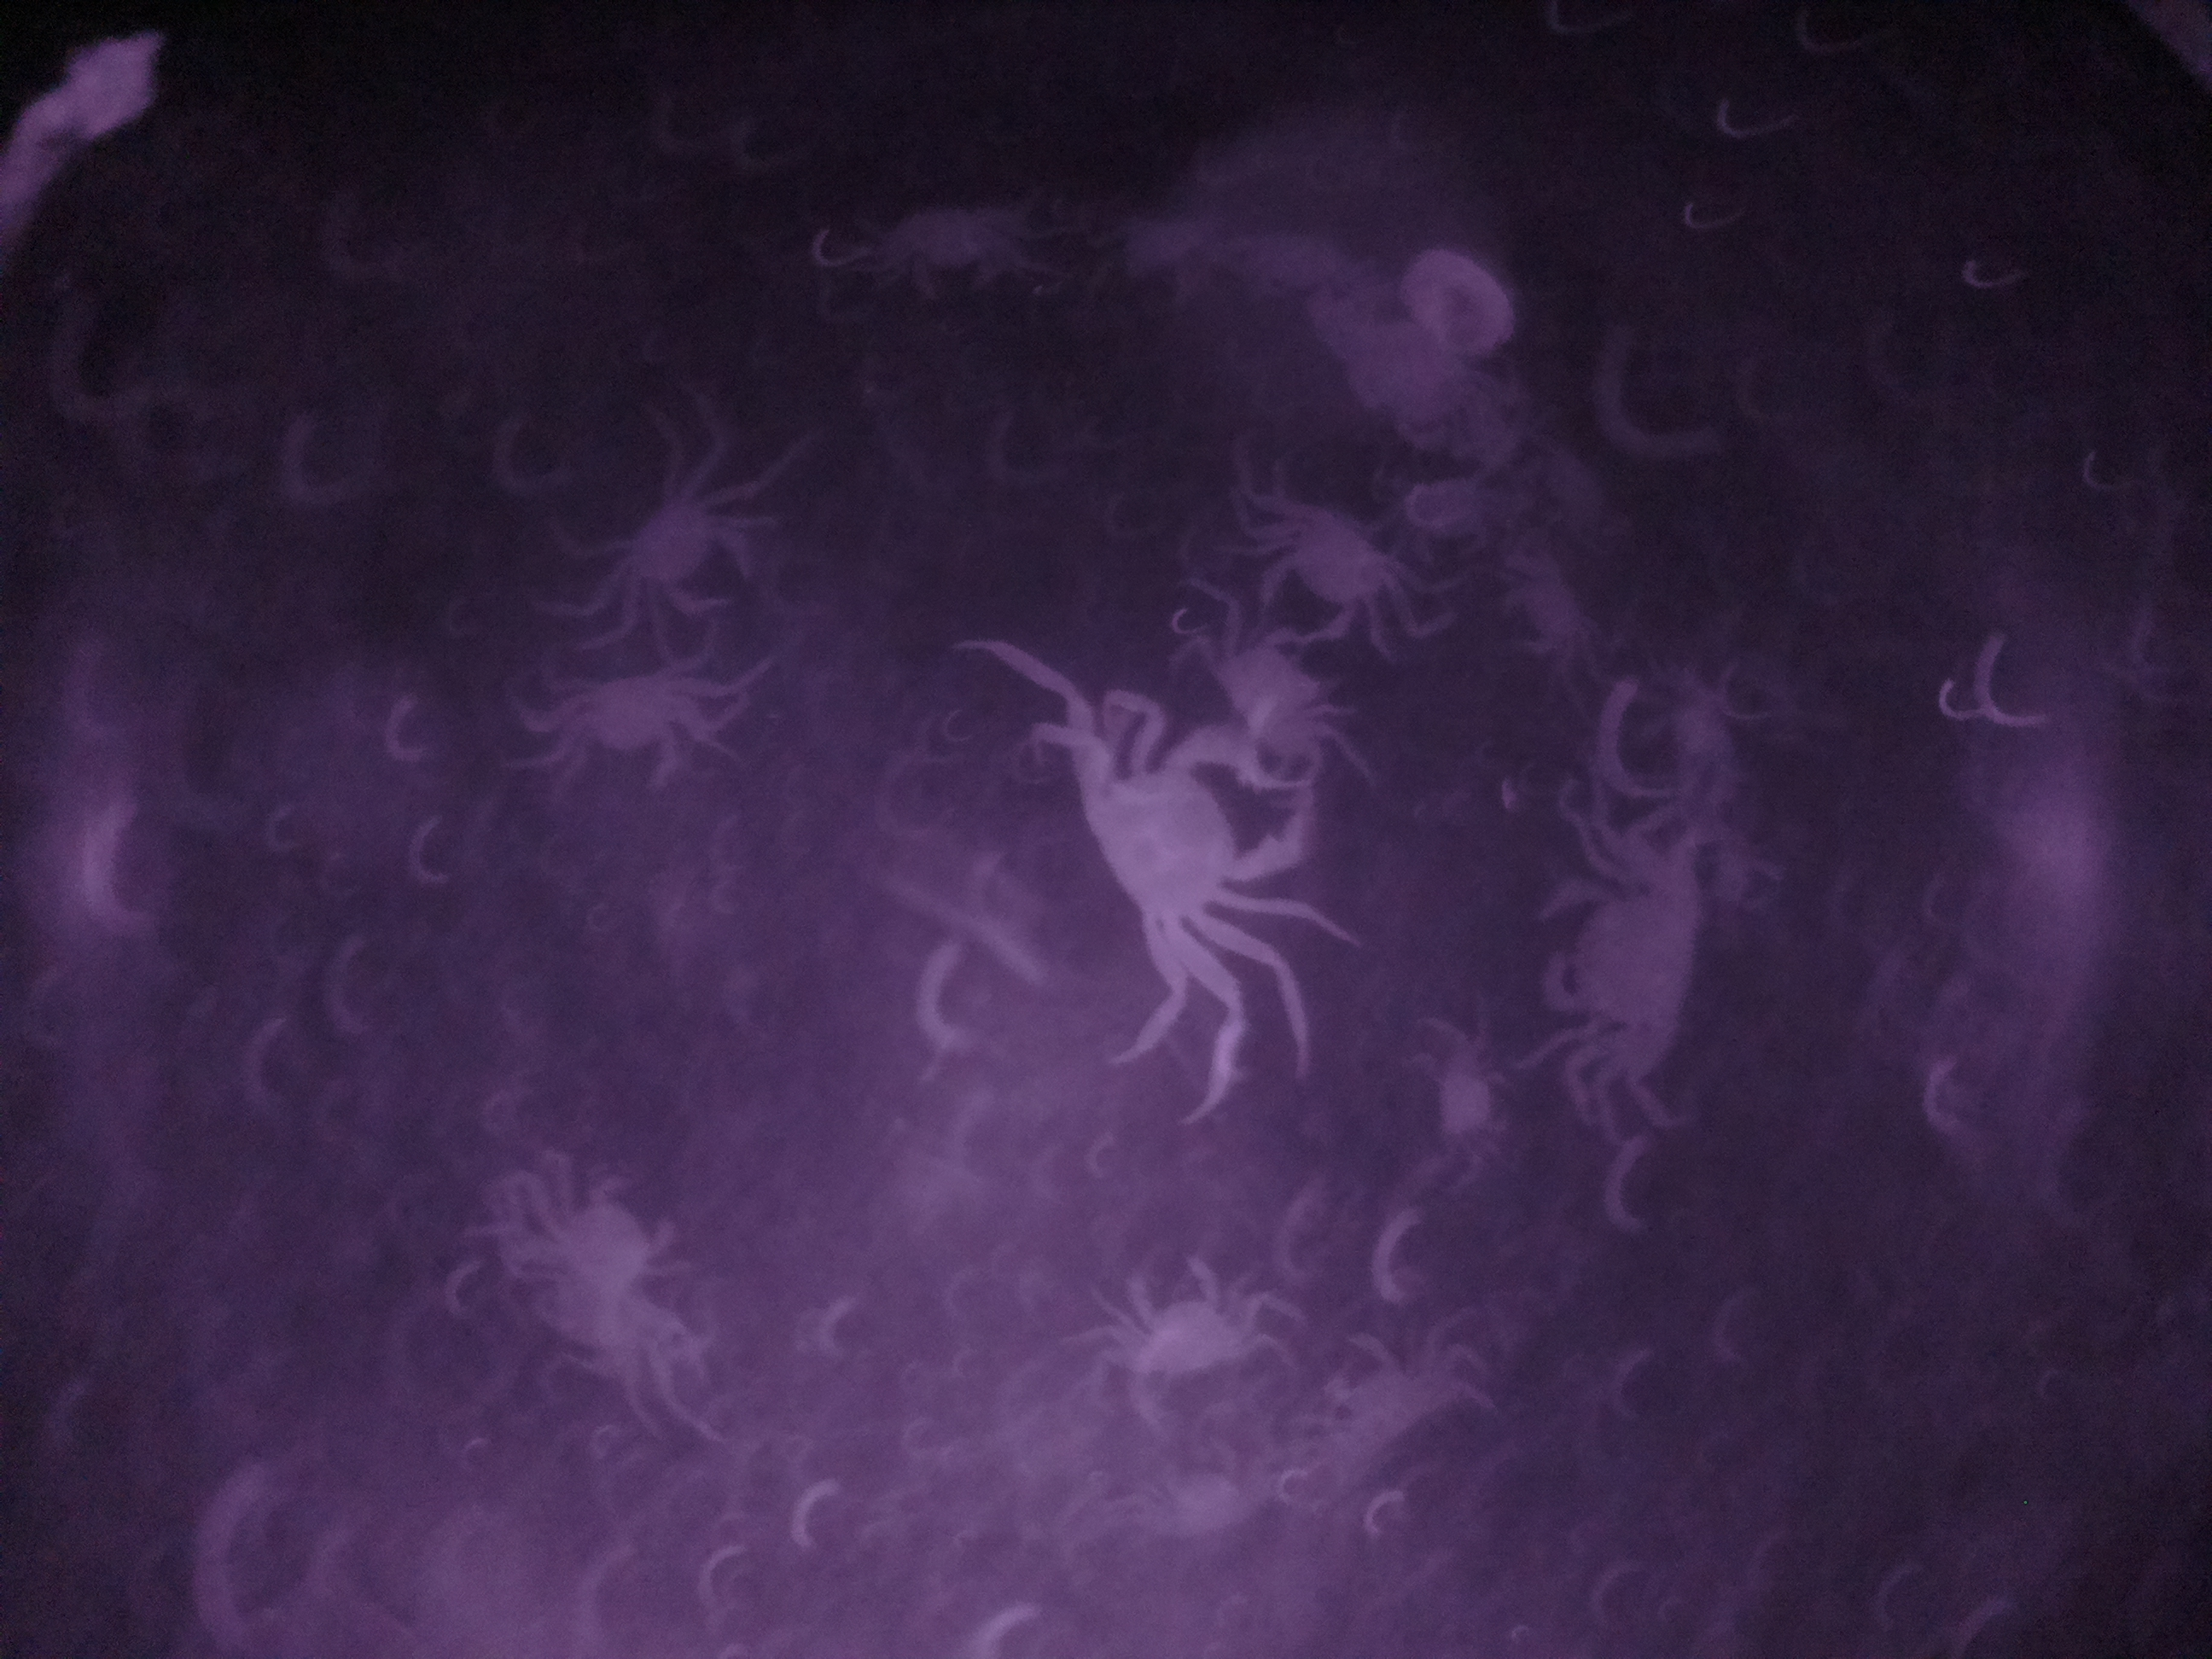Crab: (1043, 716, 1338, 964), (1508, 823, 1742, 1082), (577, 451, 773, 640), (1238, 476, 1426, 655), (523, 645, 723, 802)
